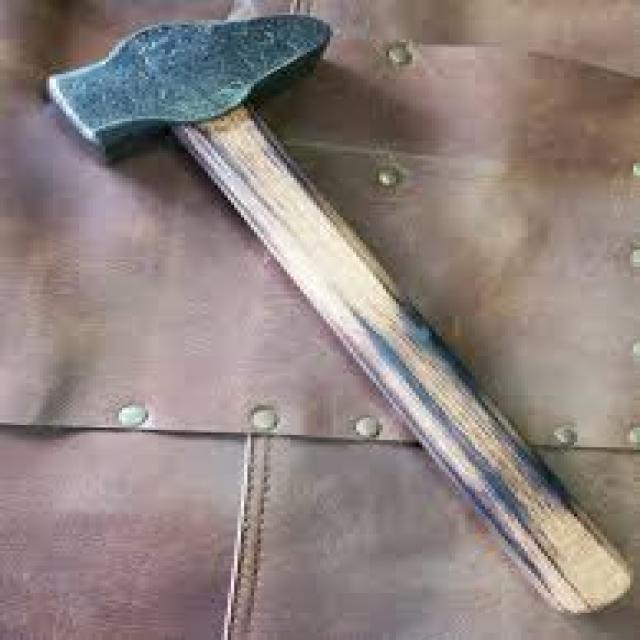hammer: (34, 10, 638, 618)
